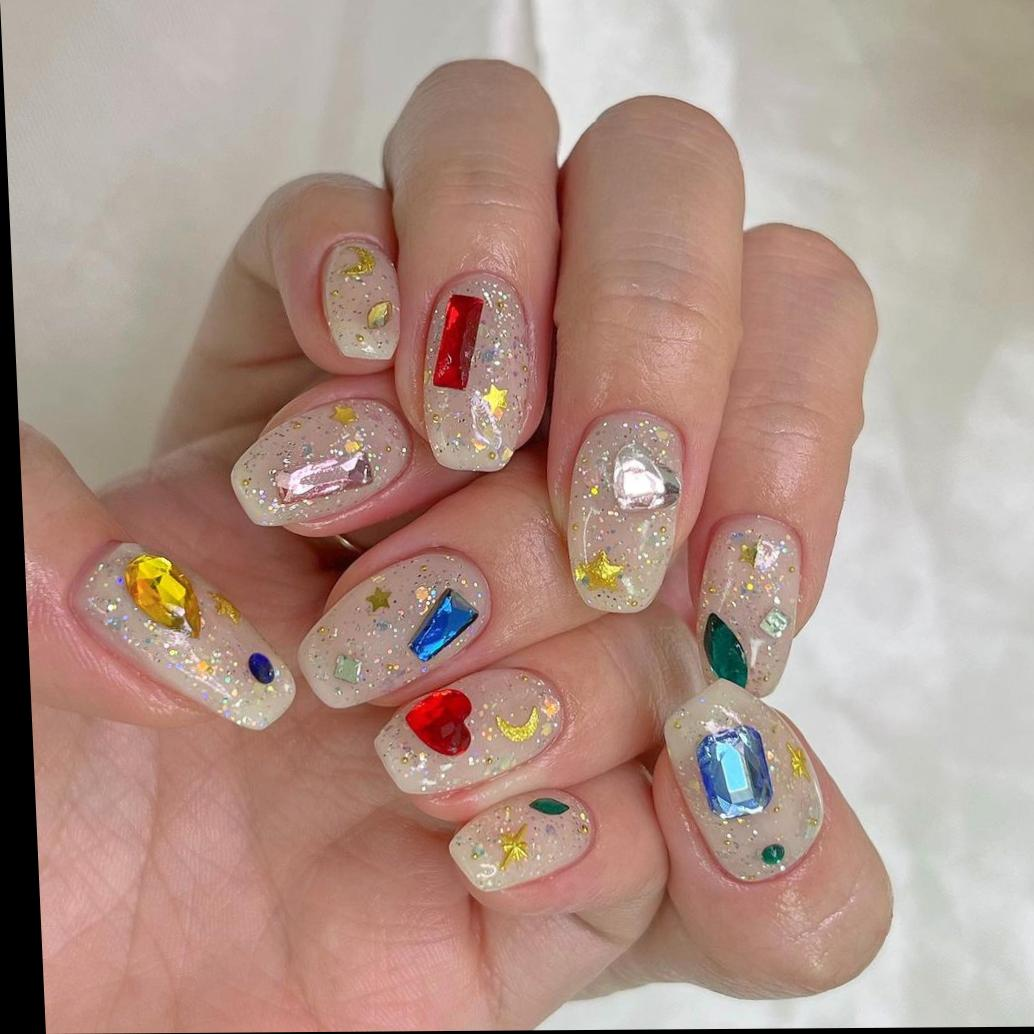nail: (66, 538, 298, 735), (659, 681, 829, 887), (291, 548, 496, 711), (559, 410, 692, 616), (225, 389, 417, 530), (370, 667, 569, 797), (415, 271, 540, 474), (691, 514, 809, 699), (444, 789, 598, 895), (317, 236, 403, 364)
